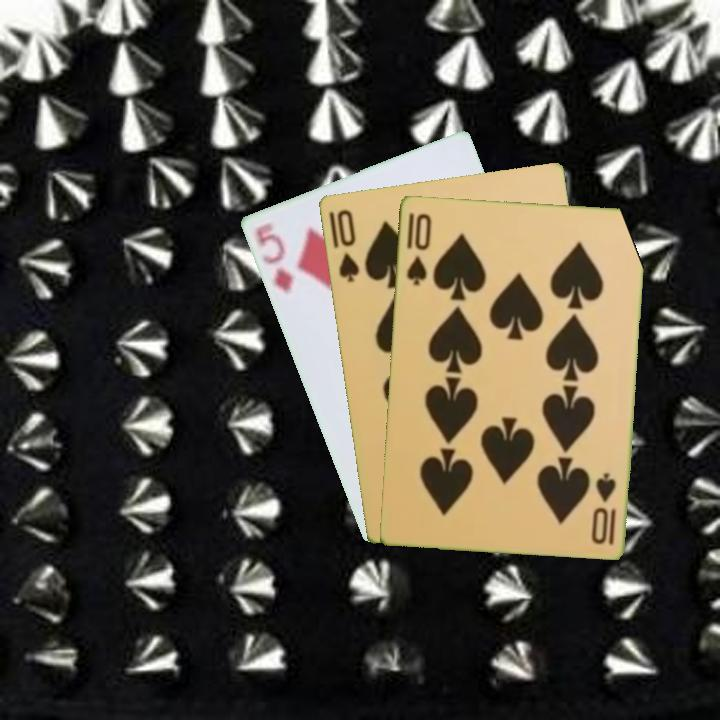10s: (402, 209, 434, 288), (588, 469, 619, 548), (333, 205, 362, 285)
5d: (252, 219, 296, 296)
